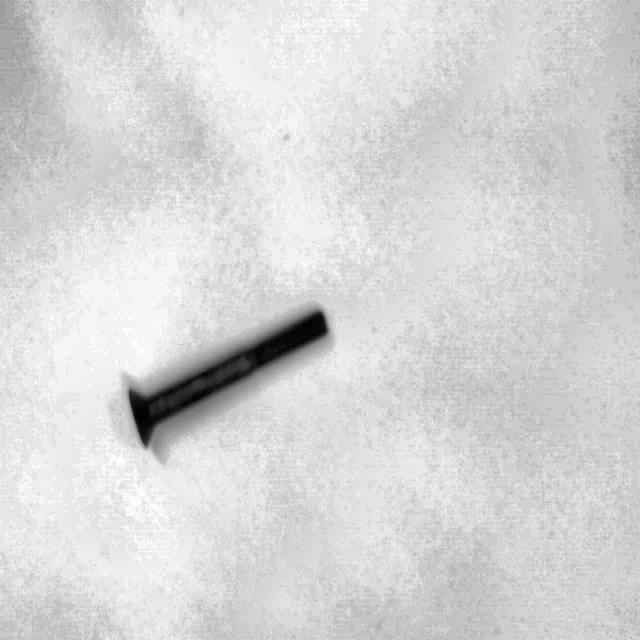Flat head socket screw: (124, 303, 331, 448)
